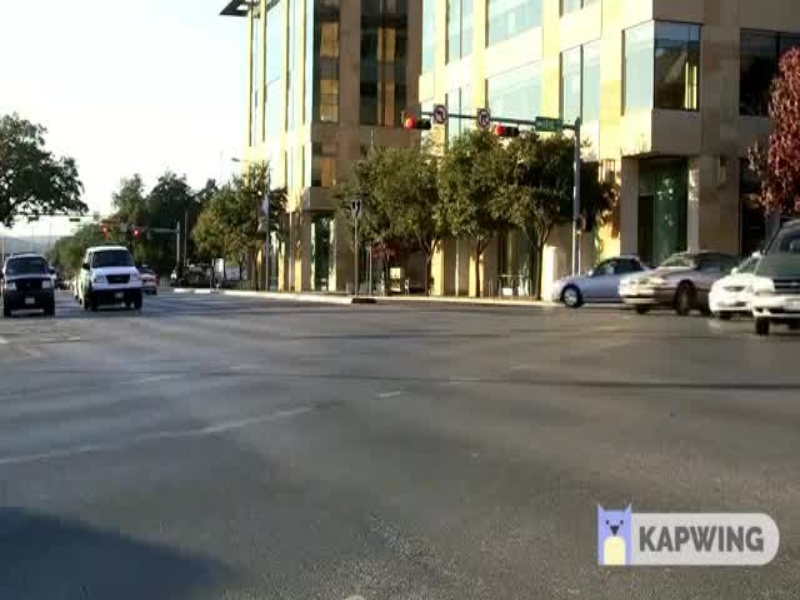car: (619, 248, 735, 313), (551, 250, 654, 316)
suv: (69, 239, 151, 314), (1, 245, 60, 319)
